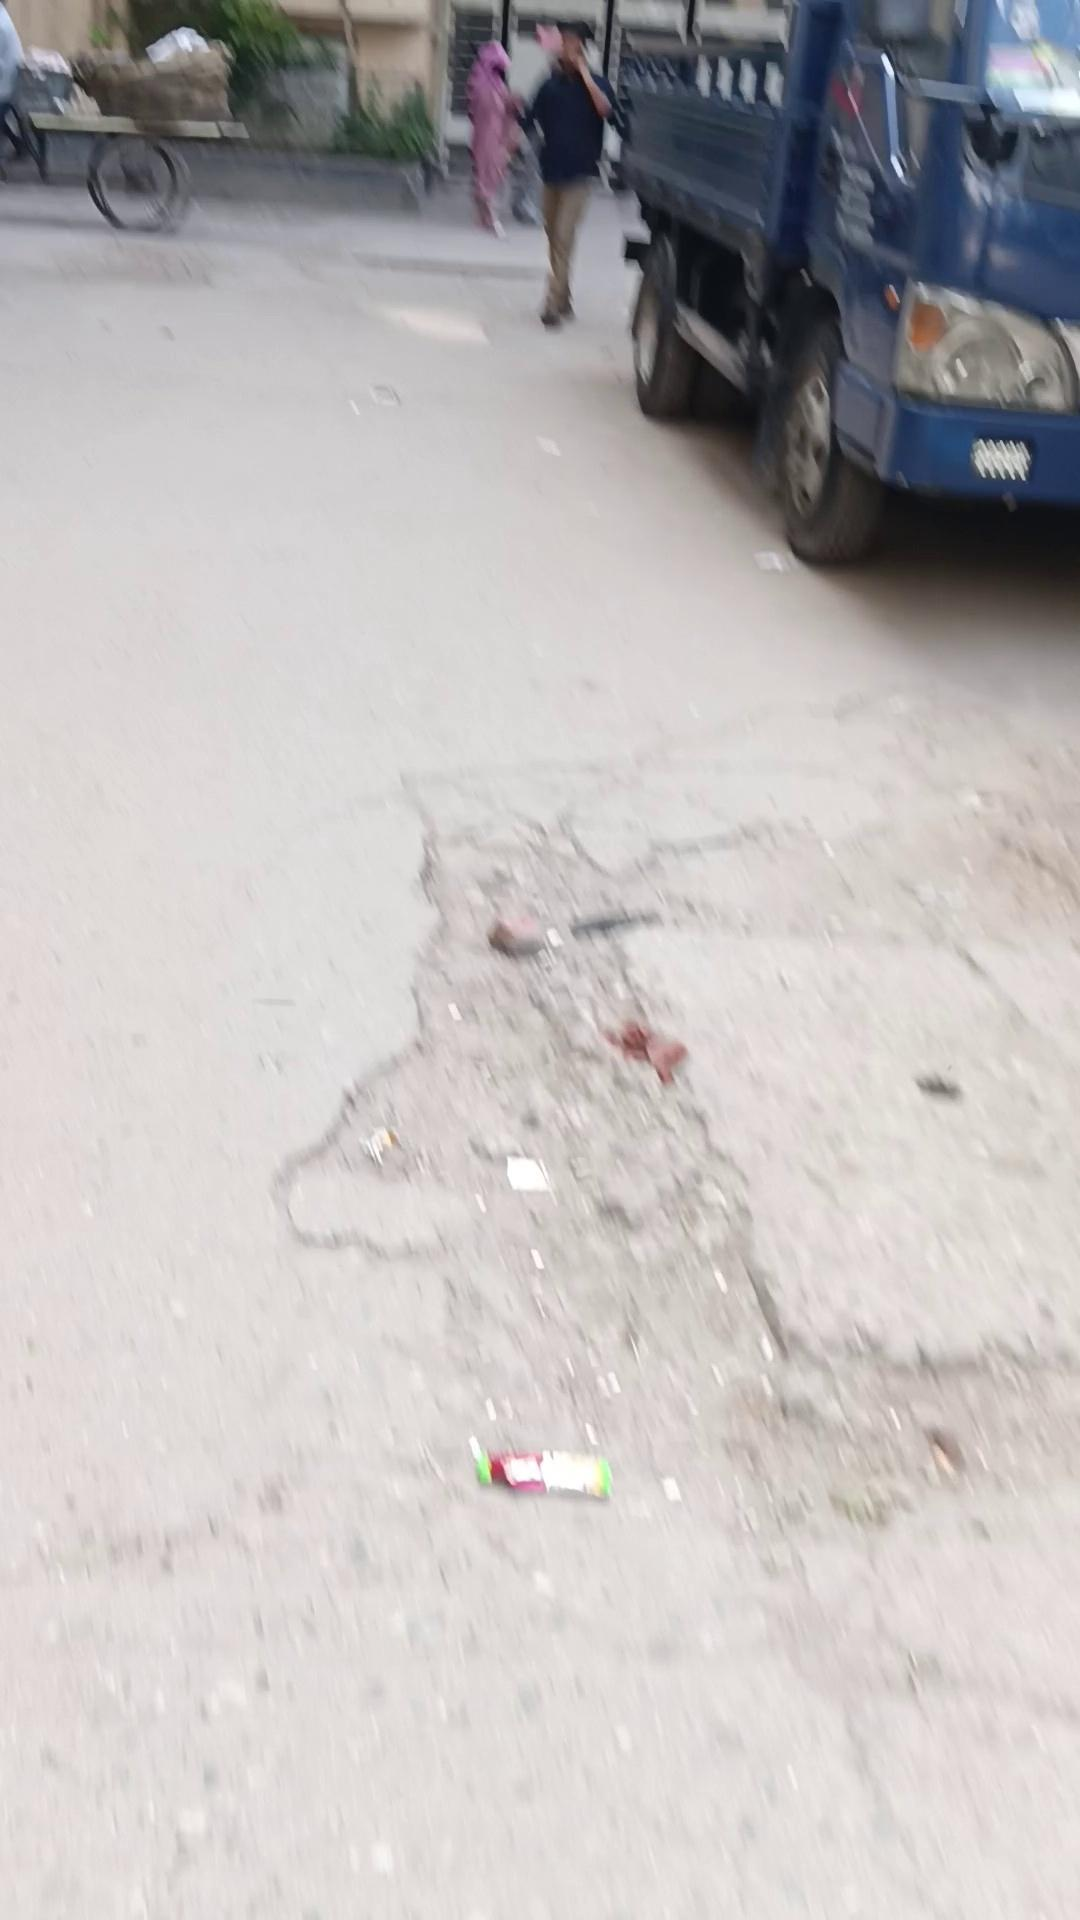Broken-road: (3, 166, 1076, 1913)
Crosswalk: (347, 247, 553, 280)
Muddy road: (525, 18, 622, 326), (464, 40, 529, 237)
Traffic-sign: (607, 1, 1077, 566)
